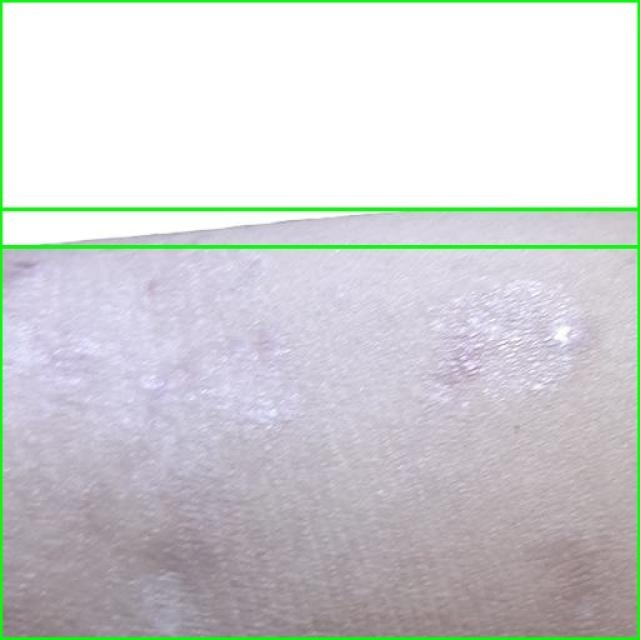Tinea Corporis: (0, 209, 639, 639), (0, 0, 639, 248)
